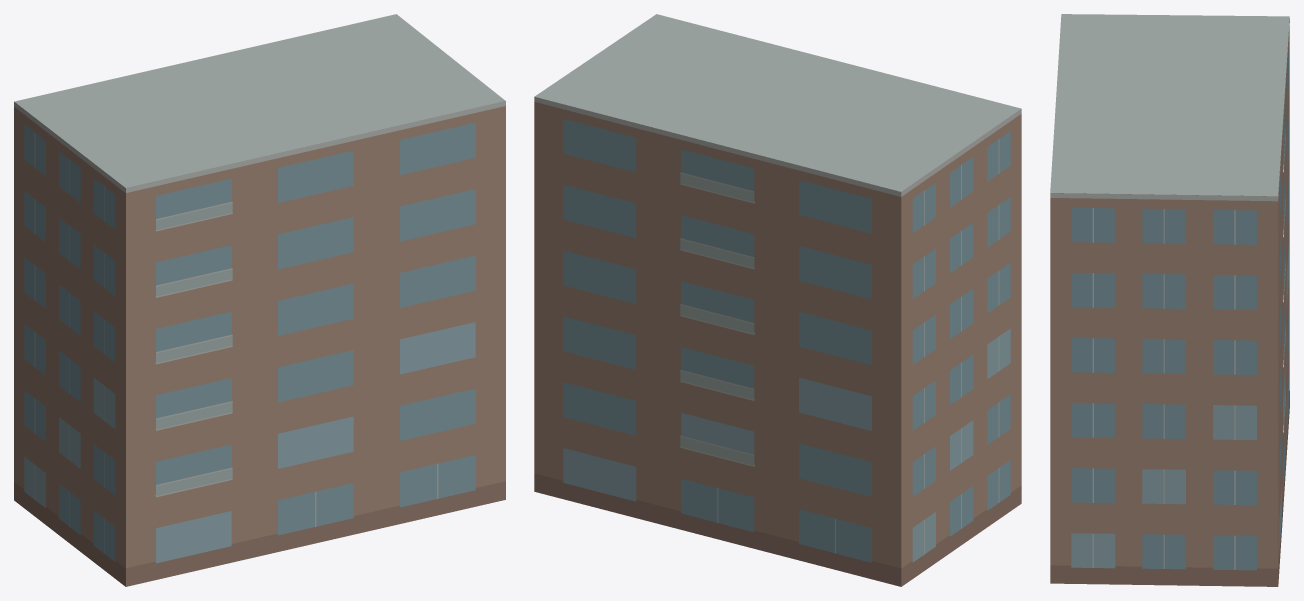
File: survey-upis-32761051.glb
3 renders of one model, left to right at view 1: azimuth 30°, elevation 25°; view 2: azimuth 150°, elevation 25°; view 3: azimuth 270°, elevation 25°, orthographic. The views are drawn at different scales.
Visible parts, largest first — view 1: survey-upis-32761051.tmp; view 2: survey-upis-32761051.tmp; view 3: survey-upis-32761051.tmp.
Boxes of the visible parts, <box> form: survey-upis-32761051.tmp: <box>14,14,505,586</box>; survey-upis-32761051.tmp: <box>534,14,1021,586</box>; survey-upis-32761051.tmp: <box>1050,14,1289,586</box>.
Bounding box in the file's own units: 19.33 × 19.3 × 10.74.
